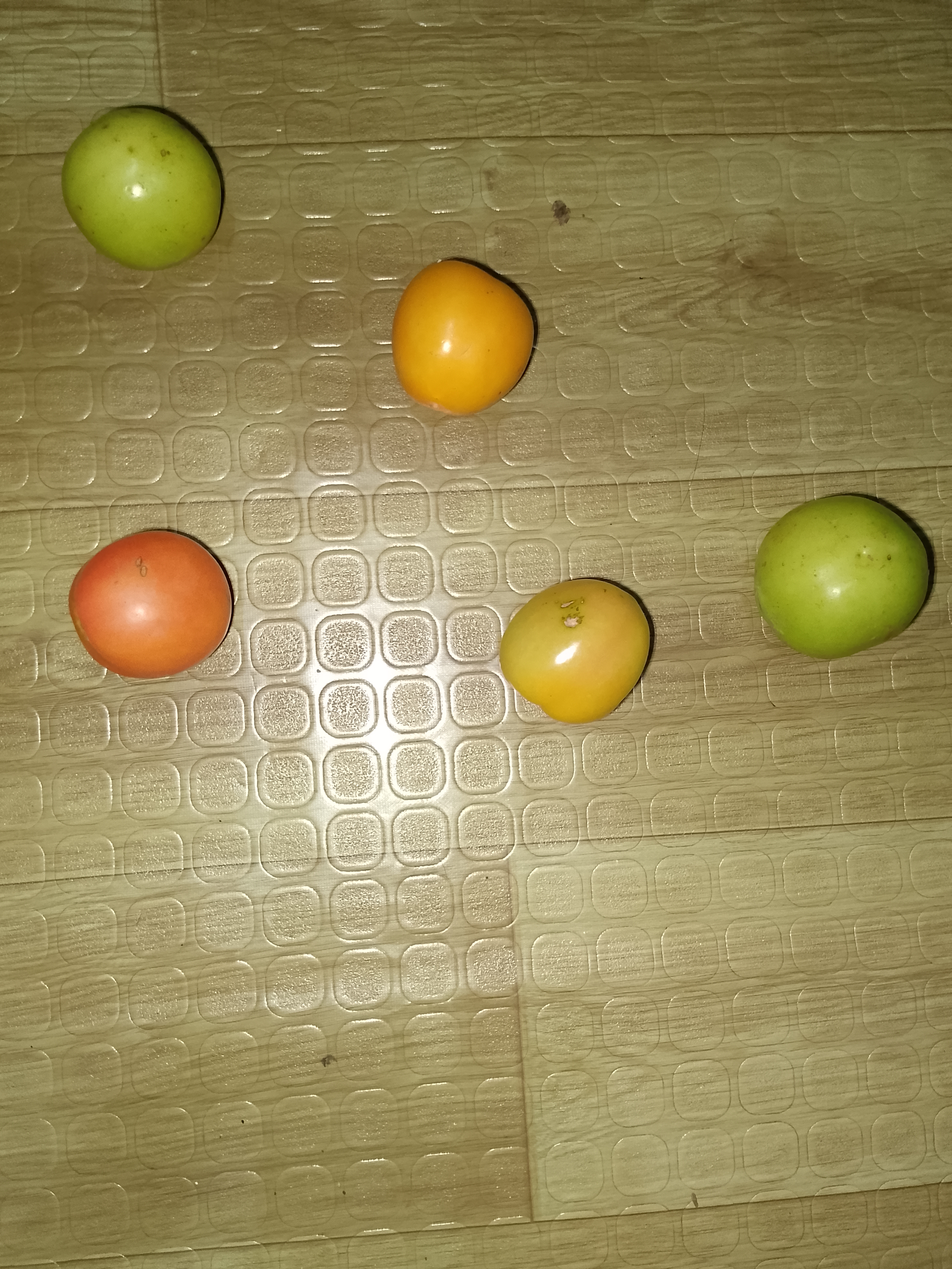Ripe: (735, 423, 934, 747), (327, 210, 594, 441), (31, 503, 260, 708)
Unripe: (36, 57, 231, 314), (480, 555, 688, 760)
